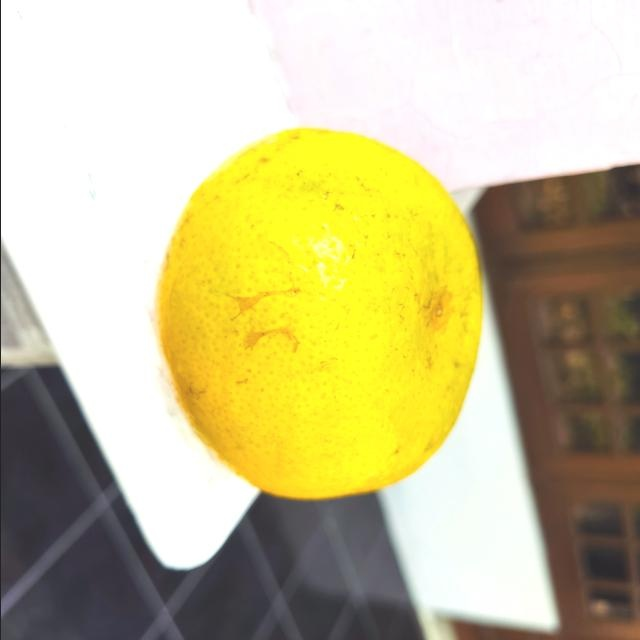agrume: (155, 125, 485, 503)
